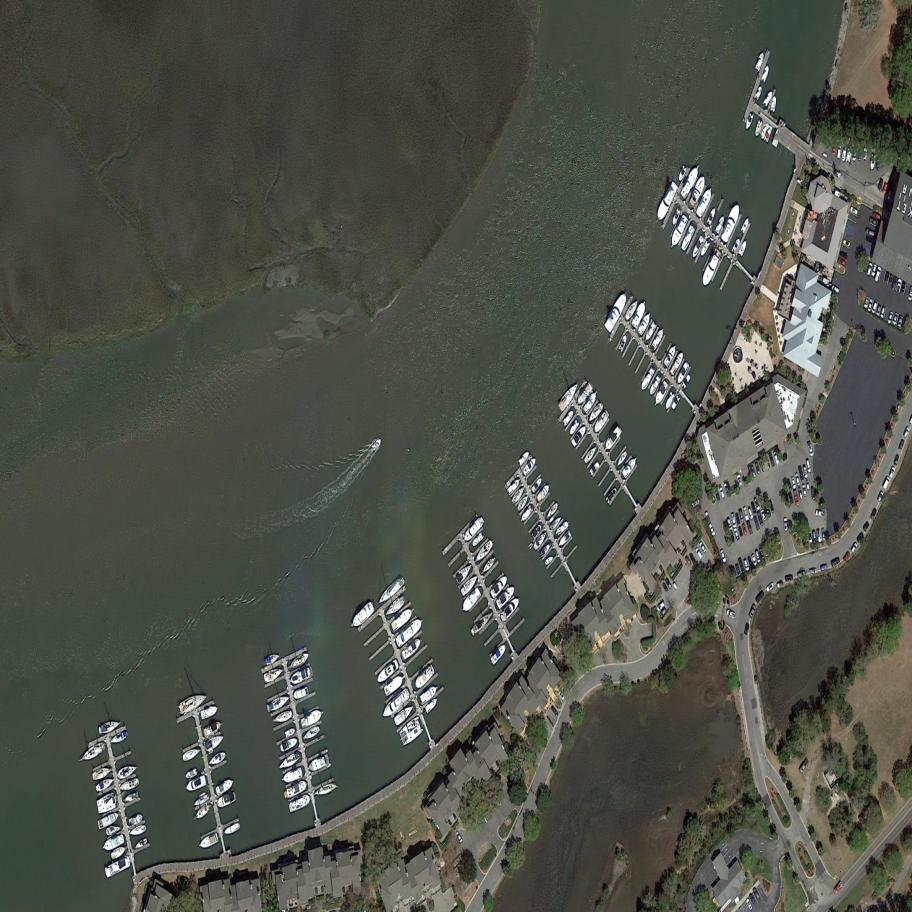ship: (391, 613, 430, 652), (601, 288, 632, 336), (652, 179, 682, 225), (373, 573, 410, 610), (378, 686, 415, 722), (718, 201, 744, 247), (698, 245, 724, 291), (385, 603, 418, 636), (379, 670, 411, 702), (347, 599, 379, 631), (394, 717, 427, 747), (555, 378, 582, 414), (100, 853, 136, 880), (409, 661, 439, 693), (459, 513, 488, 546), (678, 162, 702, 201), (175, 690, 211, 716), (372, 657, 403, 687), (77, 739, 110, 766), (666, 214, 690, 251), (458, 585, 486, 616), (469, 606, 497, 636), (491, 582, 519, 612), (687, 173, 709, 210), (397, 636, 426, 664), (470, 537, 497, 567), (381, 592, 409, 620), (281, 777, 312, 802), (497, 594, 523, 623), (285, 790, 315, 815), (297, 706, 327, 731), (286, 664, 317, 688), (601, 423, 625, 453), (93, 809, 123, 833), (694, 186, 715, 220), (391, 702, 418, 728), (416, 680, 442, 707), (456, 572, 482, 599), (487, 573, 512, 601), (628, 298, 649, 330), (95, 715, 124, 738), (304, 752, 333, 775), (285, 649, 314, 672), (619, 453, 641, 483), (590, 408, 613, 436), (199, 718, 227, 741), (276, 749, 304, 772), (574, 379, 596, 408), (452, 561, 475, 588), (651, 378, 671, 409), (194, 831, 222, 853), (189, 801, 217, 823), (113, 761, 141, 783), (265, 692, 293, 714), (99, 832, 128, 853), (311, 780, 340, 801), (678, 223, 698, 253), (202, 732, 229, 754), (259, 664, 286, 686), (270, 706, 297, 728), (487, 641, 510, 666), (569, 422, 590, 449), (213, 790, 240, 811), (582, 388, 602, 416), (638, 364, 657, 393), (533, 481, 555, 506), (280, 765, 306, 786), (636, 309, 654, 339), (197, 702, 223, 722), (182, 774, 208, 794), (92, 775, 118, 795), (508, 483, 529, 507), (646, 371, 664, 399), (478, 554, 499, 578), (213, 777, 238, 797), (90, 763, 115, 783), (622, 297, 641, 323), (582, 442, 601, 468), (117, 775, 143, 794), (668, 350, 686, 377), (520, 455, 541, 478), (107, 844, 131, 864), (205, 748, 229, 768), (650, 325, 667, 353), (689, 234, 706, 262), (586, 400, 605, 425), (179, 745, 204, 764), (554, 528, 575, 550), (513, 492, 533, 515), (542, 500, 562, 523), (517, 502, 537, 525), (260, 649, 283, 669), (674, 361, 691, 388), (108, 728, 132, 747), (300, 724, 324, 743), (641, 320, 659, 345), (662, 343, 680, 368), (278, 735, 301, 754), (505, 476, 524, 498), (531, 529, 550, 551), (221, 820, 243, 839), (423, 695, 442, 716), (119, 790, 142, 807), (125, 811, 146, 829), (190, 791, 212, 808), (127, 823, 149, 840), (546, 513, 564, 533), (290, 684, 311, 701), (561, 408, 577, 430), (469, 530, 487, 549), (603, 484, 620, 504), (515, 448, 532, 468), (529, 475, 545, 496), (753, 50, 767, 74), (553, 521, 572, 538), (567, 418, 582, 439), (616, 332, 630, 354), (536, 541, 553, 559), (131, 837, 151, 852), (586, 460, 602, 478), (615, 449, 630, 468), (698, 238, 712, 258), (663, 390, 676, 411), (369, 436, 385, 453), (281, 725, 299, 740), (705, 207, 718, 227), (713, 215, 726, 235), (530, 523, 544, 541), (676, 163, 688, 184), (743, 110, 755, 130), (761, 88, 774, 106), (737, 238, 749, 257), (670, 393, 682, 411), (680, 373, 692, 391), (730, 237, 742, 255), (671, 207, 682, 226), (754, 118, 764, 138), (740, 216, 751, 234), (761, 64, 770, 84), (869, 151, 878, 171), (769, 93, 778, 113), (753, 84, 764, 100), (764, 125, 774, 142), (759, 123, 768, 141), (543, 554, 556, 565), (845, 146, 852, 164), (841, 144, 847, 161), (862, 145, 868, 161)
small-vehicle: (796, 757, 810, 775), (831, 881, 845, 895), (772, 451, 782, 468), (867, 216, 880, 229), (755, 589, 767, 603), (874, 266, 883, 284), (454, 829, 464, 845), (848, 205, 861, 217), (881, 476, 892, 490), (768, 451, 777, 468), (719, 547, 728, 564), (792, 489, 800, 508), (698, 540, 708, 555), (829, 284, 841, 296), (708, 522, 717, 538), (725, 608, 738, 619), (556, 689, 567, 702), (752, 497, 762, 511), (855, 531, 866, 543), (690, 498, 702, 509), (871, 211, 884, 221), (688, 552, 697, 566), (694, 546, 703, 560), (806, 442, 815, 456), (723, 483, 732, 497), (902, 425, 911, 439), (550, 705, 560, 717), (895, 279, 903, 294), (861, 520, 871, 532), (736, 474, 744, 489), (718, 485, 726, 500), (742, 506, 750, 521), (738, 556, 745, 573), (798, 466, 805, 483), (745, 898, 754, 911), (876, 490, 885, 503), (850, 541, 859, 554), (749, 604, 757, 618), (866, 262, 873, 278), (887, 309, 894, 325), (806, 458, 813, 474), (656, 601, 667, 611), (765, 582, 775, 593), (865, 228, 877, 237), (814, 509, 826, 518), (891, 276, 898, 291), (867, 298, 874, 313), (734, 512, 741, 527), (746, 520, 753, 535), (757, 512, 764, 527), (731, 513, 738, 528), (752, 888, 760, 901), (665, 577, 673, 590), (750, 552, 758, 565), (704, 511, 712, 524), (768, 498, 774, 515), (839, 251, 849, 261), (830, 558, 841, 567), (899, 282, 906, 296), (863, 295, 870, 309), (754, 550, 761, 564), (754, 461, 761, 475), (733, 527, 740, 541), (738, 508, 745, 522), (661, 581, 669, 593), (870, 507, 878, 519), (684, 554, 692, 566), (888, 465, 896, 477), (747, 555, 754, 568), (715, 489, 722, 502), (743, 558, 750, 571), (787, 492, 794, 505), (893, 453, 900, 466), (741, 523, 748, 536), (760, 509, 767, 522), (748, 506, 755, 519), (775, 581, 785, 590), (884, 270, 890, 285), (842, 238, 852, 247), (872, 300, 878, 315), (819, 563, 829, 572), (810, 486, 816, 501), (659, 607, 667, 618), (864, 234, 875, 242), (843, 551, 851, 562), (749, 893, 756, 905), (878, 178, 884, 192), (880, 305, 886, 319), (759, 548, 765, 562), (751, 502, 757, 516), (729, 530, 735, 544), (754, 516, 760, 530), (727, 517, 733, 531), (898, 439, 905, 451), (803, 465, 809, 479), (796, 570, 806, 578), (837, 258, 847, 266), (875, 158, 881, 171), (887, 188, 893, 201), (892, 313, 898, 326), (735, 564, 741, 577), (738, 525, 744, 538), (807, 529, 813, 542), (786, 478, 792, 491), (797, 488, 803, 501), (872, 263, 877, 278), (751, 464, 756, 479), (802, 483, 807, 498), (795, 472, 800, 487), (897, 315, 903, 327), (808, 567, 817, 575), (744, 622, 749, 636), (821, 528, 826, 542), (817, 529, 822, 543), (812, 530, 817, 544), (791, 476, 796, 490), (889, 274, 894, 287), (783, 517, 787, 533), (785, 575, 794, 582), (882, 184, 887, 196), (876, 304, 881, 315), (806, 480, 809, 492)
